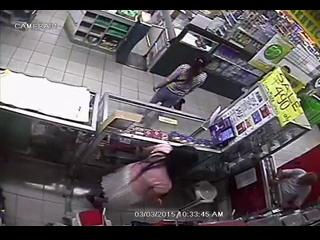Normal: (148, 56, 210, 110)
